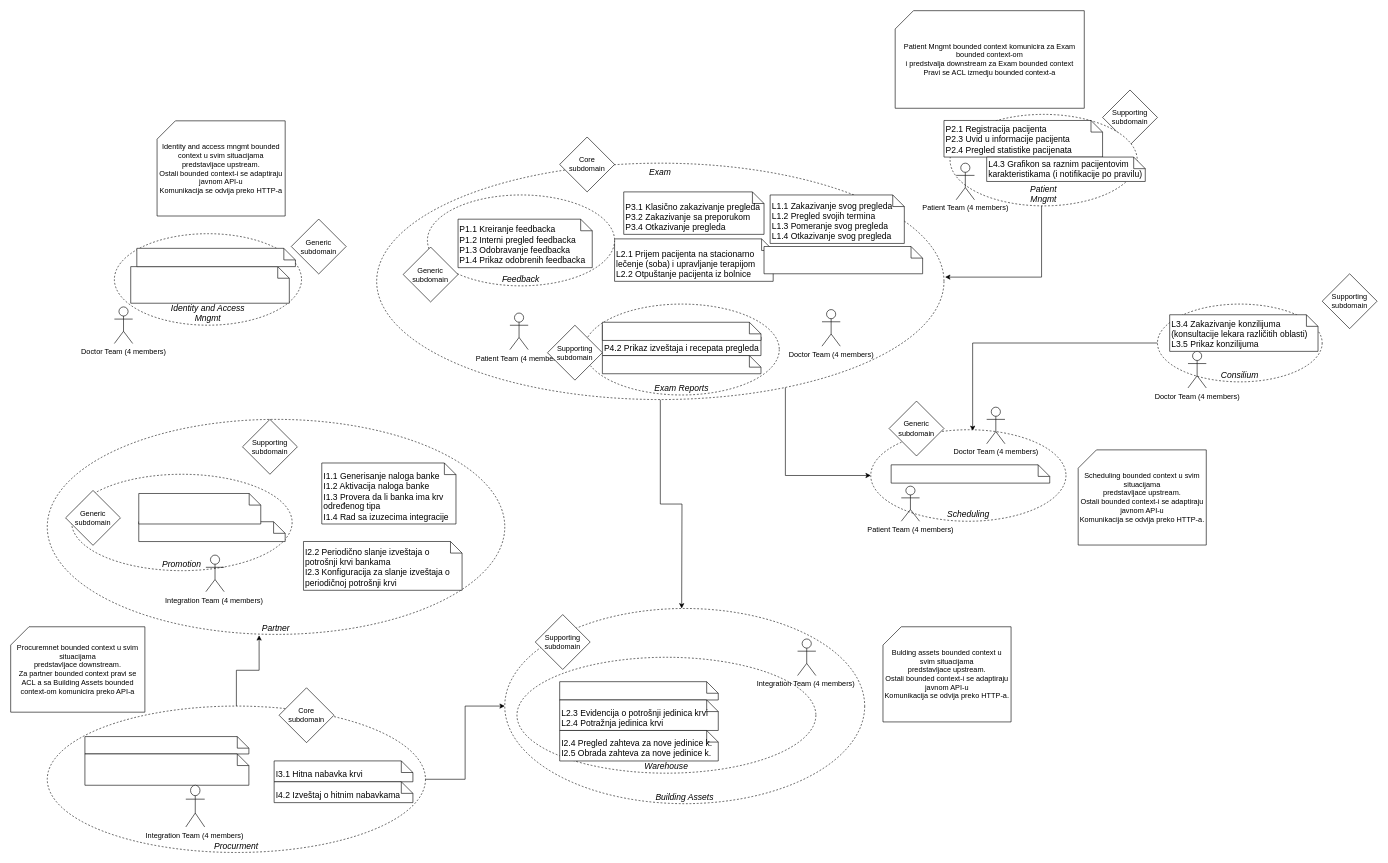
Some shapes in this 1388 by 863 pixel diagram are drawn without their labels. The centre of each missing label's shape, as x and y in pixels:
"I2.1 Vesti i promocije od banaka krvi" goes at (211,531).
"I3.2 Tendering" goes at (166,745).
"I4.3 Izveštaj o tender nabavkama za banke" goes at (166,769).
"L3.1 Lekarski pregled pacijenta" goes at (843,260).
"L3.3 Prikaz izveštaja i recepata" goes at (681,331).
"L4.1 Pretraga izveštaja i recepata" goes at (681,364).
"L4.2 Prikaz zaliha krvi" goes at (638,690).
"P2.1 Registracija korisnika P2.2 Aktivacija naloga P2.5 Prijava/odjava korisnika" goes at (209,284).
"P3.3 Pregled zakazanih termina" goes at (970,473).
"P3.5 (Od)Blokiranje malicioznih naloga" goes at (215,257).
"P4.1 Prikaz reklama od banki" goes at (199,508).
